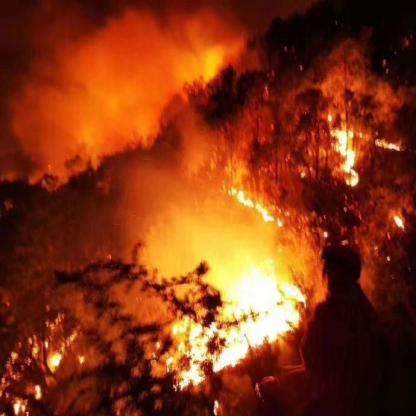fire: (170, 247, 304, 371), (316, 83, 402, 190), (6, 318, 88, 414), (215, 176, 290, 232), (375, 200, 408, 231)
smoke: (19, 13, 198, 157)
